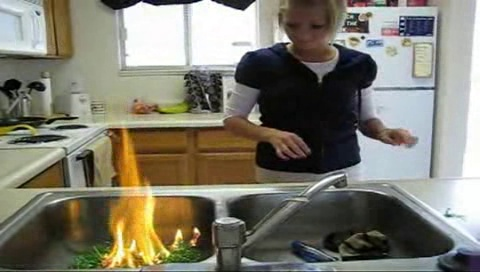fire: (104, 125, 169, 266)
